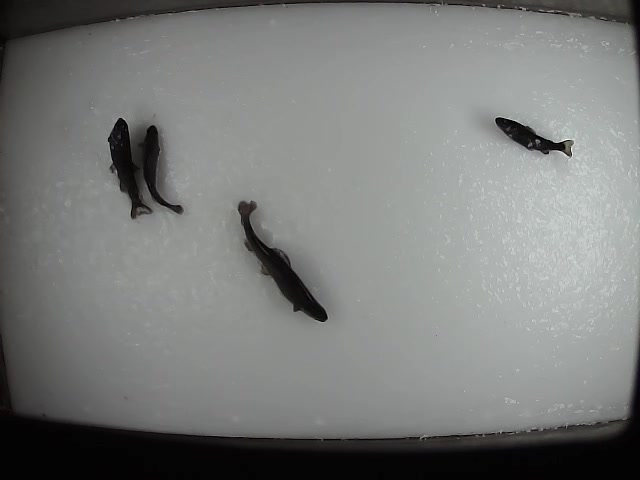Fish: (237, 200, 327, 322), (107, 117, 153, 221), (137, 125, 184, 215), (495, 117, 574, 157)
